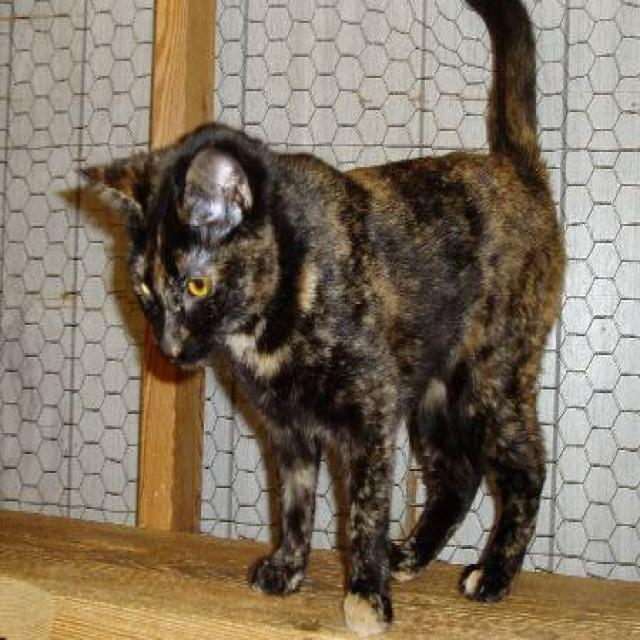cat: (56, 0, 567, 638)
